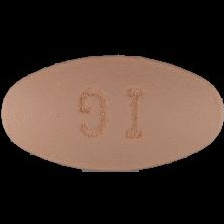63187-378: (0, 0, 224, 224)
